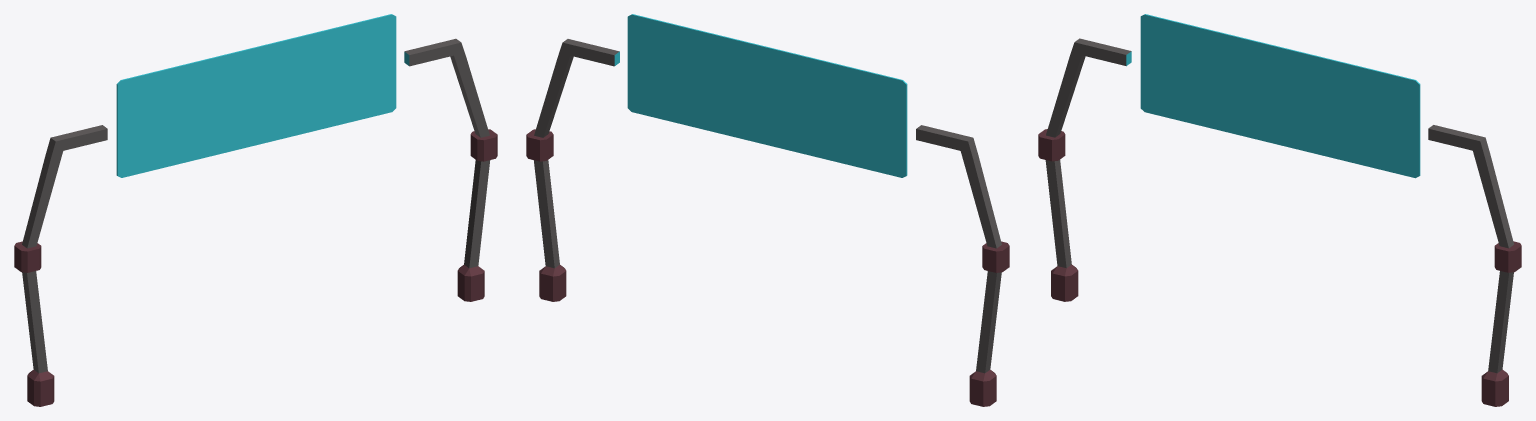
File: scifi-road-sign.fbx
The picture shows the model from 3 angles, left to right: view 1: azimuth 30°, elevation 25°; view 2: azimuth 150°, elevation 25°; view 3: azimuth 330°, elevation 25°; orthographic projection.
Parts seen in each view (by area): view 1: scifi-road-sign; view 2: scifi-road-sign; view 3: scifi-road-sign.
Boxes of the visible parts, x1=… form: scifi-road-sign: x1=14, y1=14, x2=497, y2=406; scifi-road-sign: x1=526, y1=14, x2=1009, y2=406; scifi-road-sign: x1=1038, y1=14, x2=1521, y2=406.
Size of the model in its own units: 11.06 by 6.69 by 0.4698.
